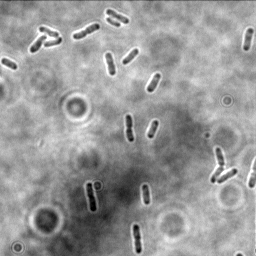Dividing: (210, 147, 226, 184), (71, 21, 101, 40), (105, 7, 131, 24), (132, 222, 144, 254), (86, 181, 98, 213), (124, 112, 136, 144), (103, 51, 117, 76)
Rod: (145, 71, 163, 94), (121, 46, 141, 66), (217, 166, 238, 185), (28, 34, 47, 55), (37, 24, 61, 39), (145, 118, 161, 140), (140, 181, 153, 207), (242, 27, 255, 52), (0, 56, 19, 71), (105, 15, 122, 29), (43, 37, 63, 48)
